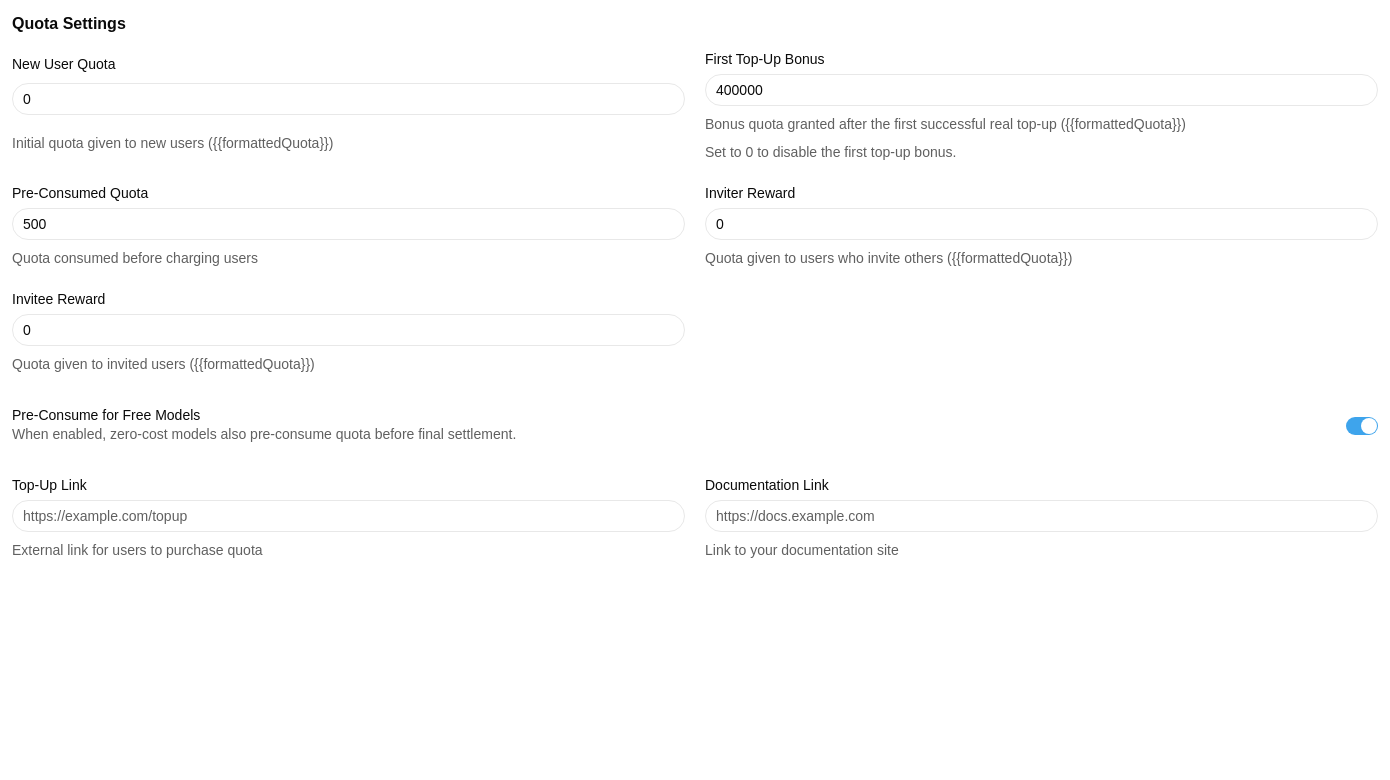
Test case: QuotaSettingsSection first top-up bonus › refuses to submit a negative bonus quota
Replace the text in the number field labelled "First Top-Up Bonus" with "-1": (1042, 90) [705, 74, 1378, 106]
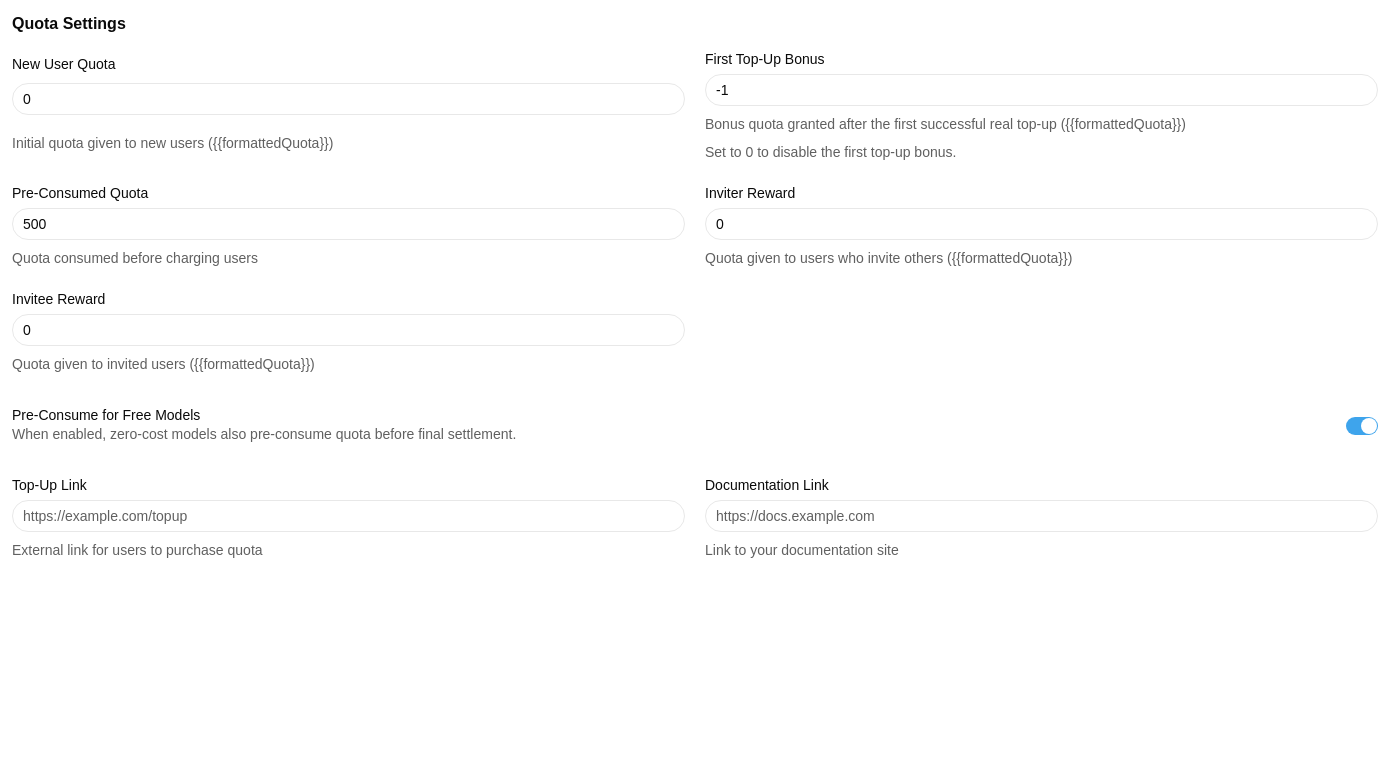
Submit the form named "First Top-Up Bonus"
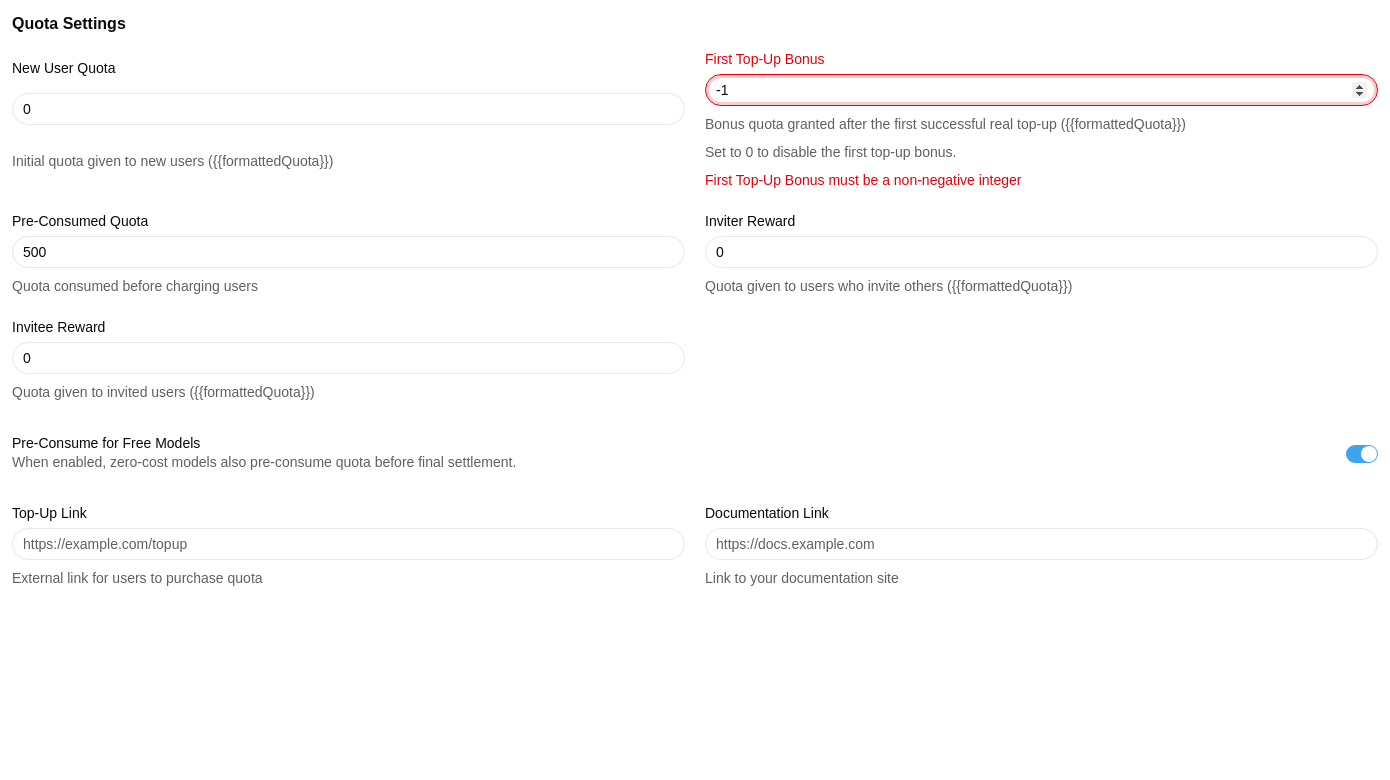
Check: the text "First Top-Up Bonus must be a non-negative integer" is shown, box [705, 172, 1022, 188]
